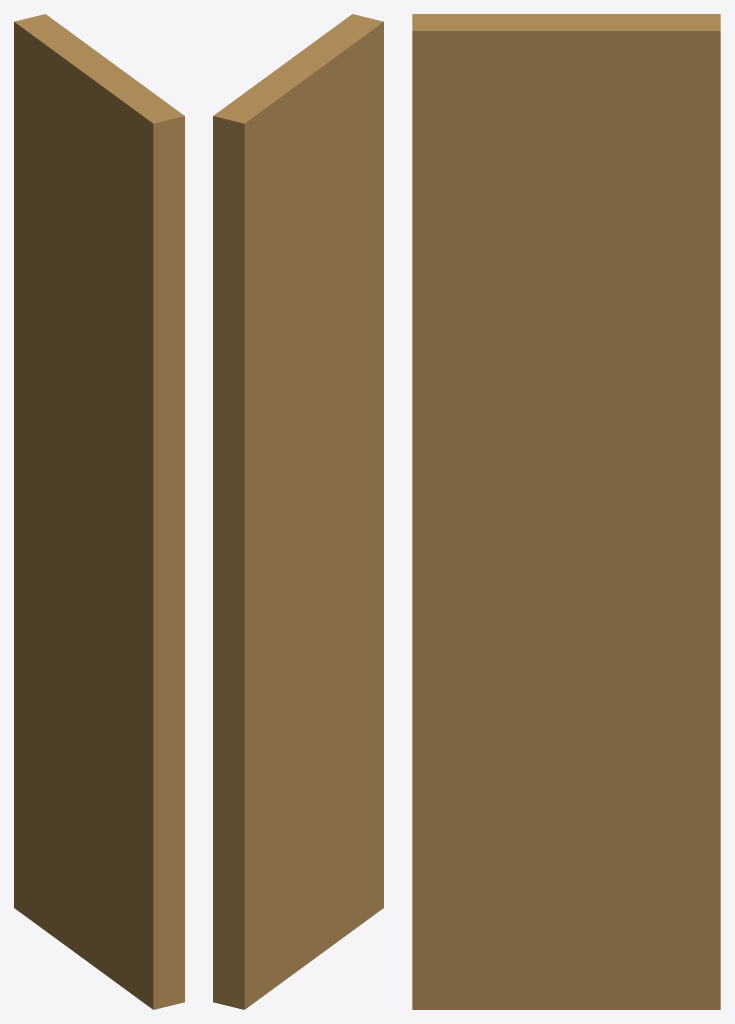
3 views of the same model, side by side, from view 1: azimuth 30°, elevation 25°; view 2: azimuth 150°, elevation 25°; view 3: azimuth 270°, elevation 25° (orthographic). The views are drawn at different scales.
Visible parts, largest first — view 1: FF-W100; view 2: FF-W100; view 3: FF-W100.
Boxes of the visible parts, box(x1,y1,x2,y2) form: FF-W100: box(14, 14, 184, 1009); FF-W100: box(213, 14, 383, 1009); FF-W100: box(412, 14, 720, 1009).
Size of the model in its own units: 0.09 by 2.42 by 0.69.
